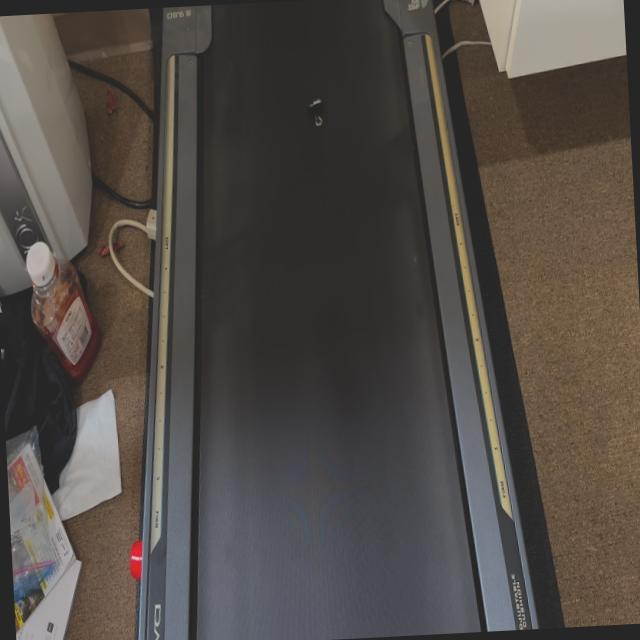Trash: (306, 90, 332, 133)
